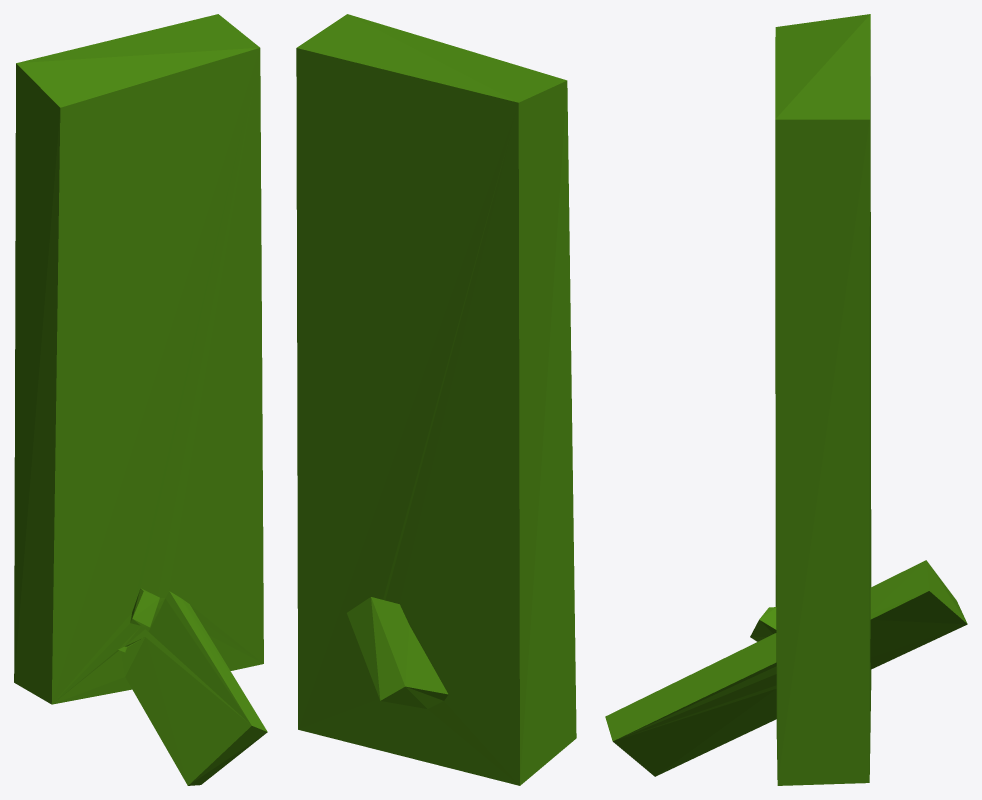
3 renders of one model, left to right at view 1: azimuth 30°, elevation 25°; view 2: azimuth 150°, elevation 25°; view 3: azimuth 270°, elevation 25°, orthographic. The views are drawn at different scales.
Parts seen in each view (by area): view 1: 030_Cube.127; view 2: 030_Cube.127; view 3: 030_Cube.127.
Boxes of the visible parts, <box> form: 030_Cube.127: <box>14,14,267,785</box>; 030_Cube.127: <box>296,14,576,785</box>; 030_Cube.127: <box>605,14,967,785</box>.
Size of the model in its own units: 4.44 by 13.34 by 6.1.
